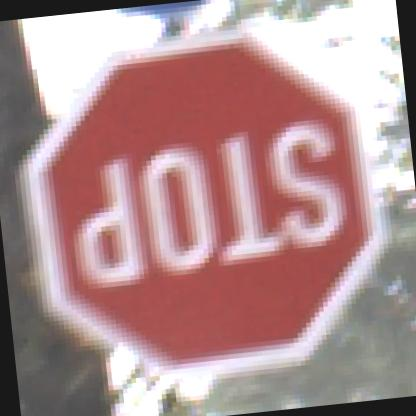stop: (4, 21, 401, 402)
